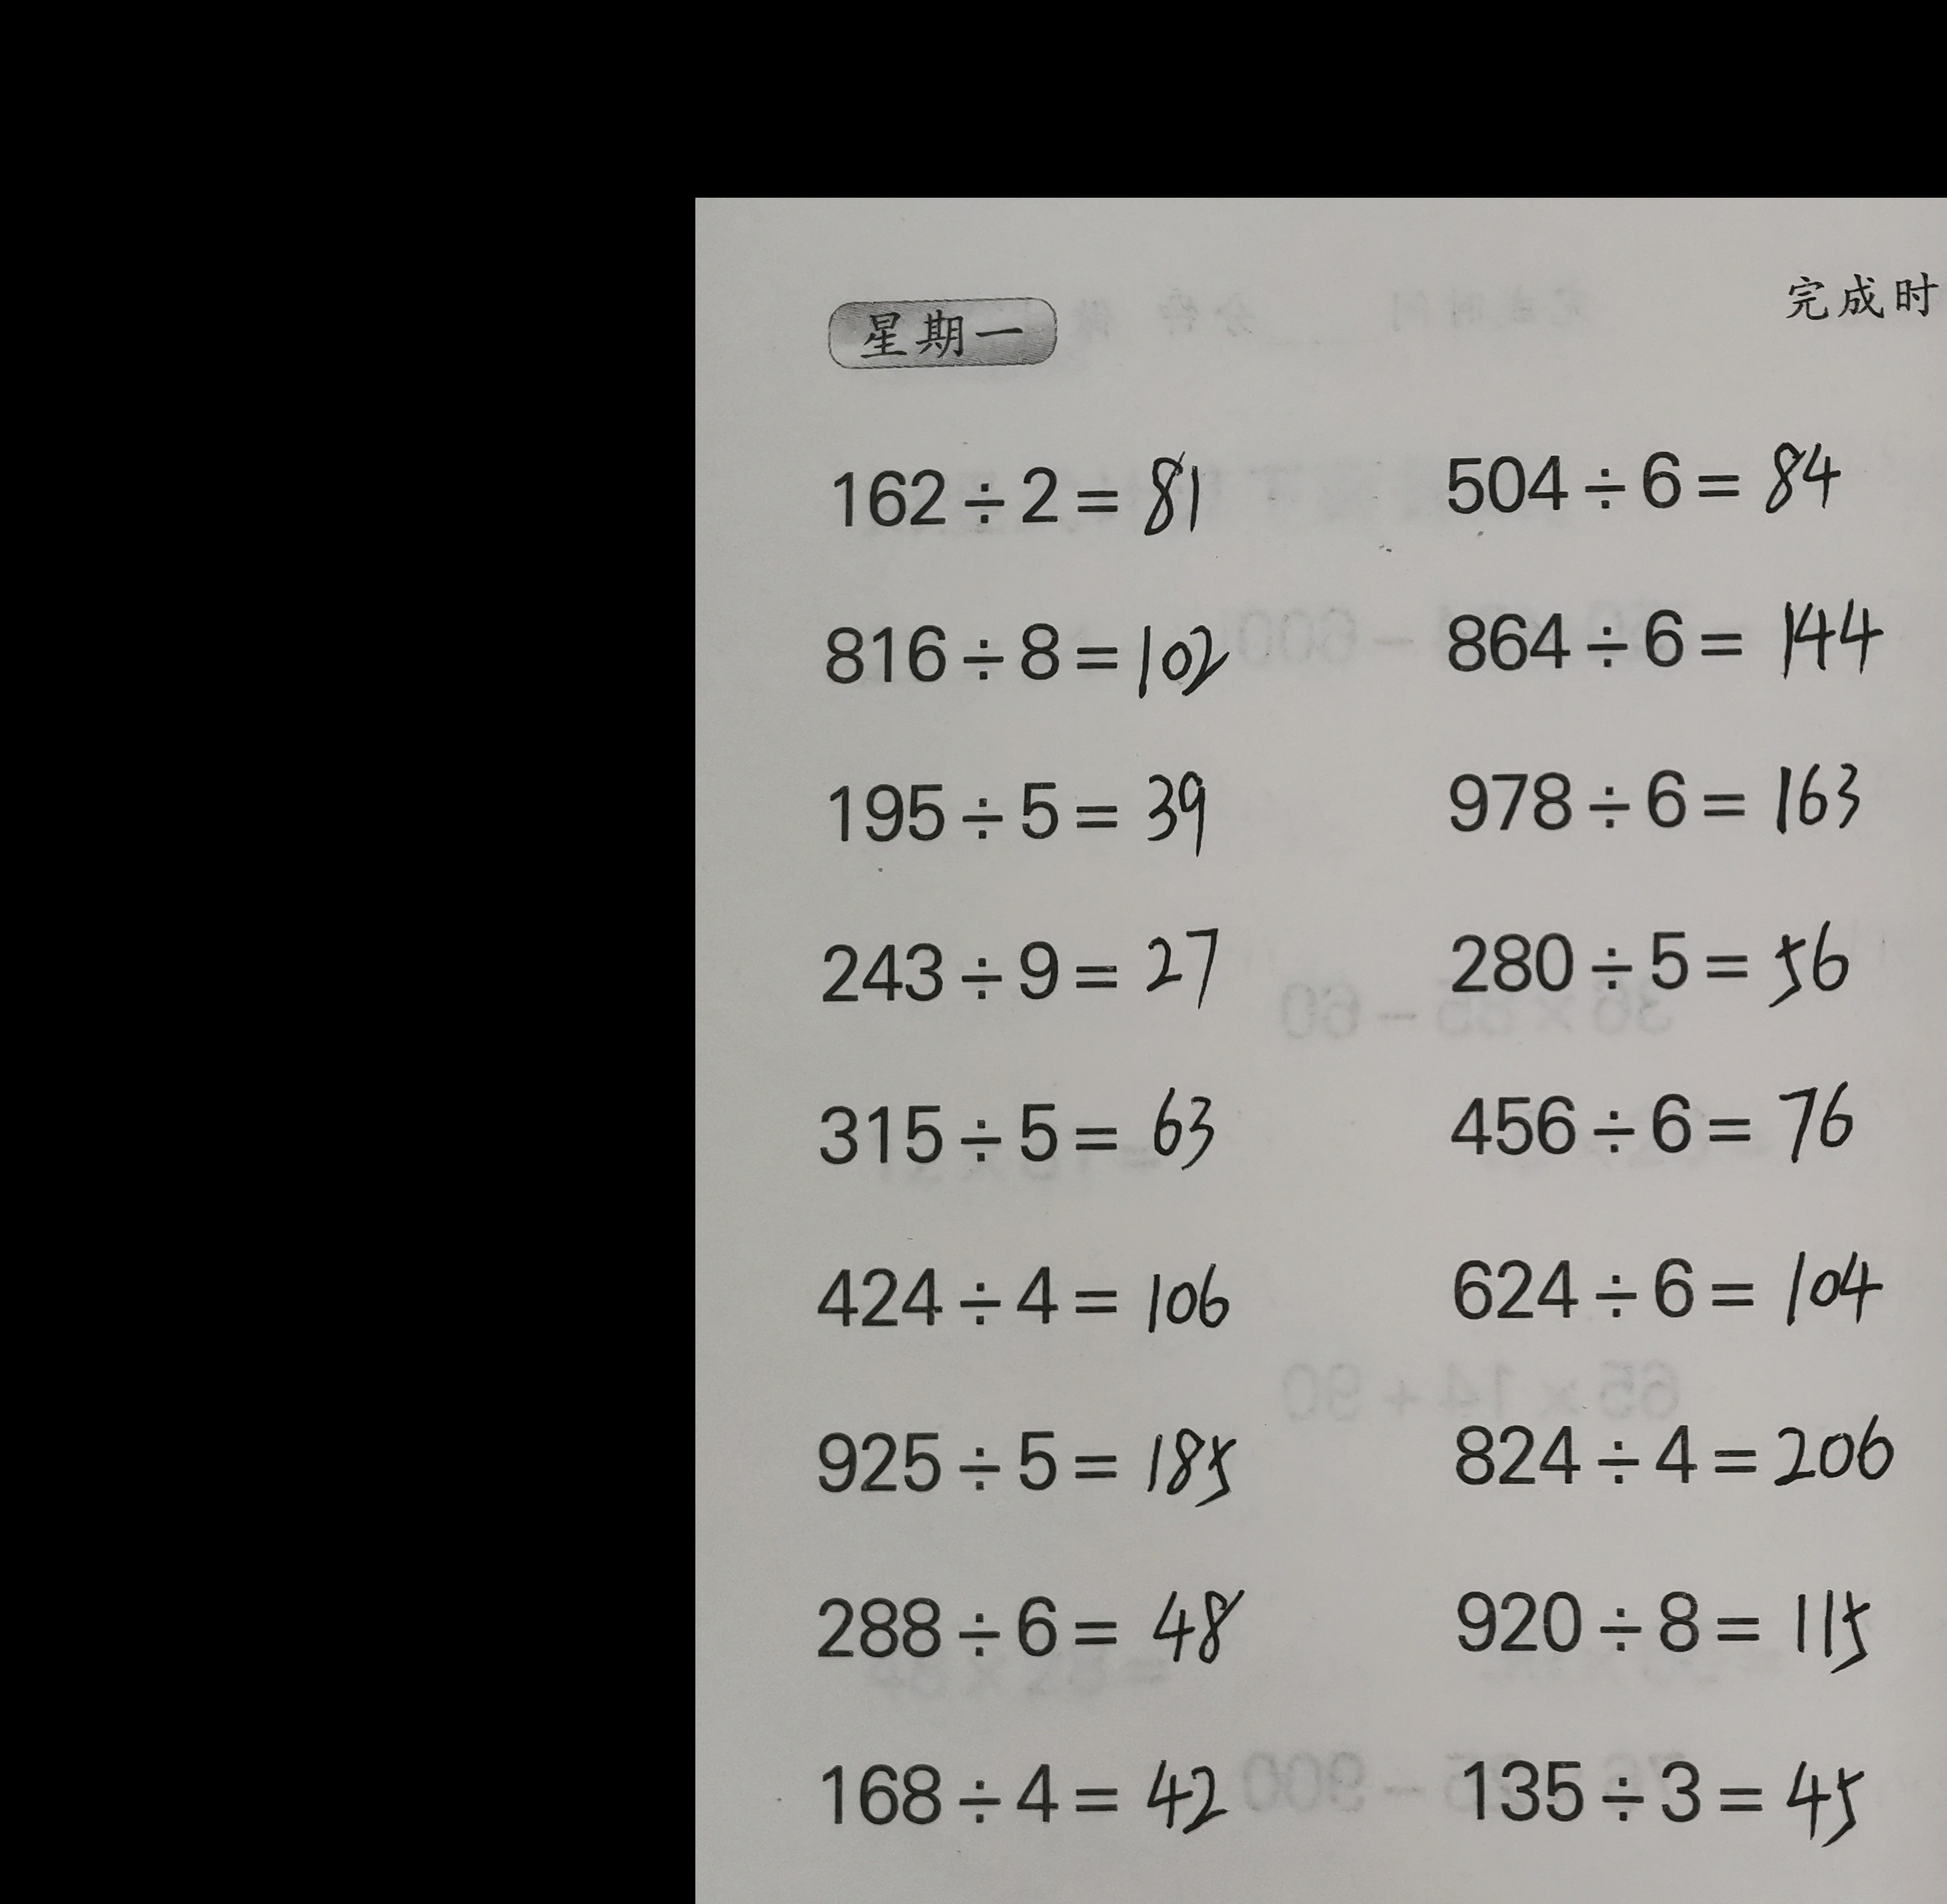equation: (790, 1233, 1263, 1358), (1448, 1550, 1896, 1681), (785, 1561, 1261, 1683), (799, 1728, 1261, 1853), (808, 577, 1240, 710), (1441, 1057, 1893, 1182), (1438, 1735, 1875, 1864), (1438, 731, 1893, 853), (1404, 572, 1902, 683), (1429, 405, 1860, 530), (1438, 1395, 1914, 1506), (1439, 1229, 1889, 1346), (806, 741, 1226, 863), (803, 420, 1237, 535), (801, 1062, 1239, 1175), (803, 1407, 1251, 1513), (810, 910, 1232, 1017), (1436, 907, 1877, 1008), (803, 1894, 1272, 1904)
